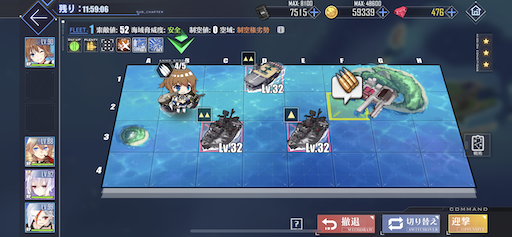lv1: (284, 106, 328, 151)
lv2: (197, 106, 242, 151), (241, 52, 284, 91)
